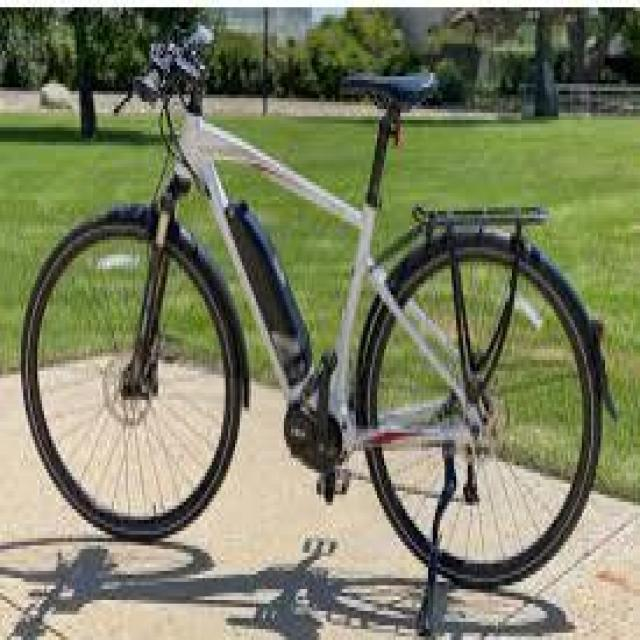bicycle: (15, 48, 597, 623)
